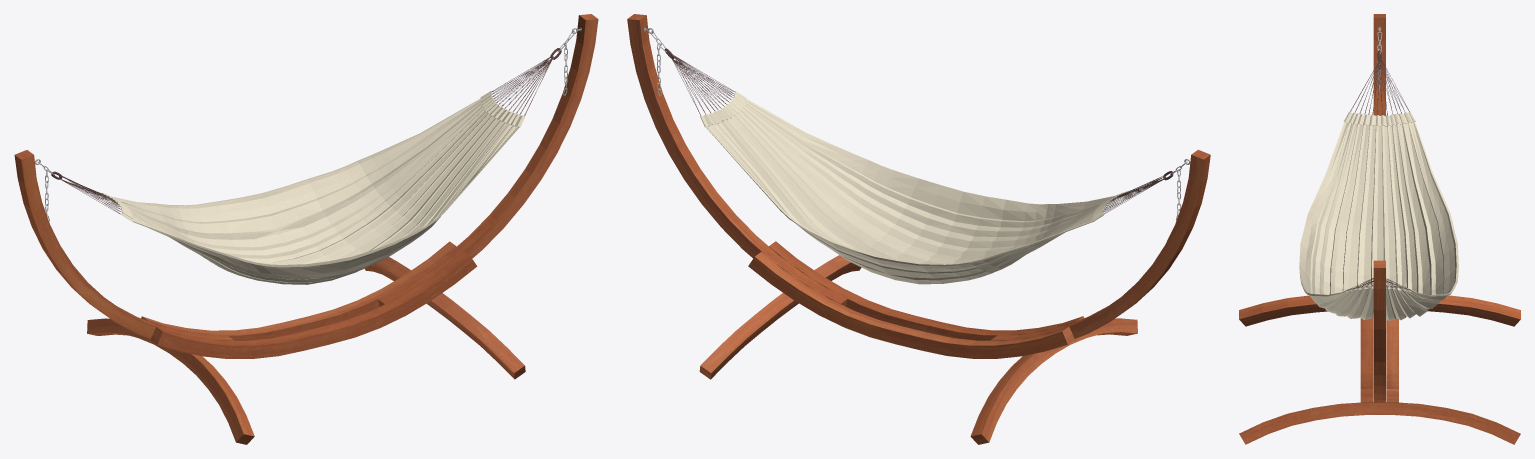
Rendered from sweethome3d-scopia-hammock-372.glb.
The picture shows the model from 3 angles, left to right: view 1: azimuth 30°, elevation 25°; view 2: azimuth 150°, elevation 25°; view 3: azimuth 270°, elevation 25°; orthographic projection. The views are drawn at different scales.
Visible parts, largest first — view 1: Plane.001_Plane.002, wood_Circle, chain3.015_Circle.026, Plane.002_Plane.004; view 2: Plane.001_Plane.002, wood_Circle, chain3.015_Circle.026, Plane.002_Plane.004; view 3: Plane.001_Plane.002, wood_Circle, chain3.024_Circle.053, Plane.
Part boxes in pixels (box(x1,y1,x2,y2)): Plane.001_Plane.002: box(97, 98, 519, 284); wood_Circle: box(14, 14, 598, 444); chain3.015_Circle.026: box(491, 56, 553, 115); Plane.002_Plane.004: box(480, 91, 524, 127); Plane.001_Plane.002: box(705, 98, 1131, 284); wood_Circle: box(627, 14, 1210, 444); chain3.015_Circle.026: box(671, 55, 734, 115); Plane.002_Plane.004: box(700, 91, 746, 127); Plane.001_Plane.002: box(1299, 121, 1458, 320); wood_Circle: box(1239, 14, 1520, 444); chain3.024_Circle.053: box(1350, 59, 1409, 114); Plane: box(1344, 111, 1415, 126).
Bounding box in the file's own units: 351 × 159 × 164.
5 materials, 2 textured.
